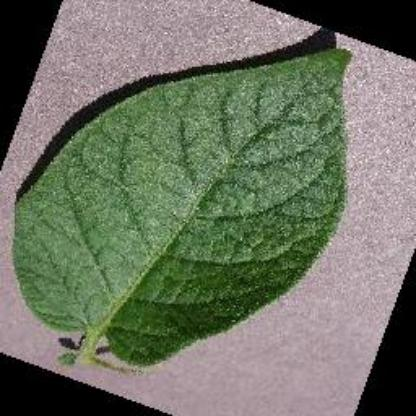Healthy-plant: (16, 35, 360, 372)
